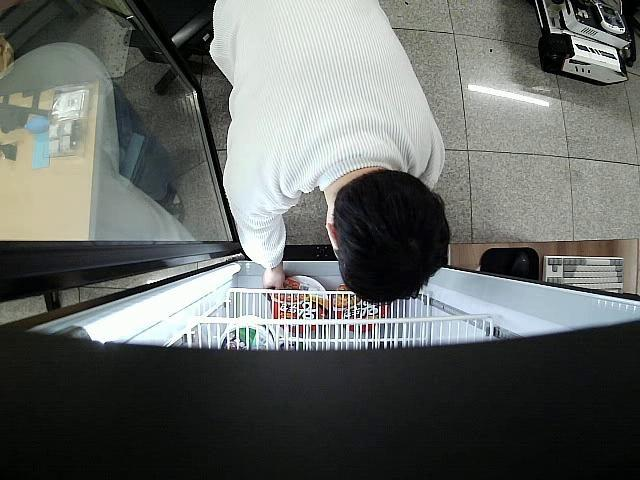10_wangTtukkeong: (269, 274, 330, 336)
